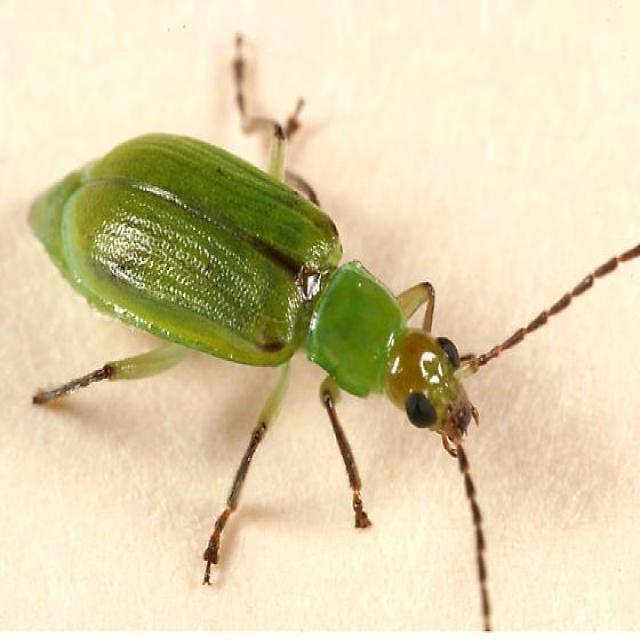gusano_gris: (21, 26, 582, 610)
